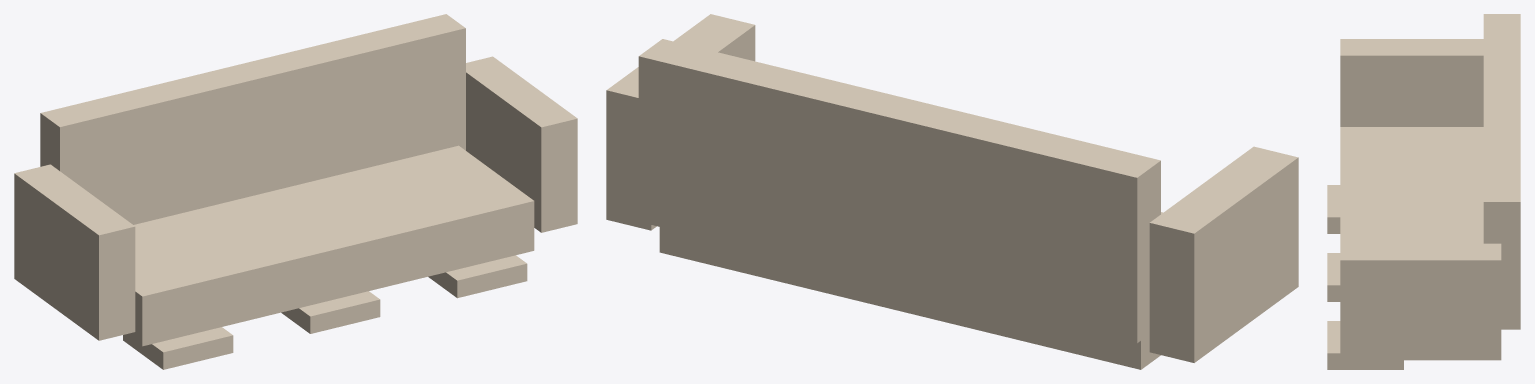
Rendered from sofa.glb.
3 views of the same model, side by side, from view 1: azimuth 30°, elevation 25°; view 2: azimuth 150°, elevation 25°; view 3: azimuth 270°, elevation 25° (orthographic). The views are drawn at different scales.
Visible parts, largest first — view 1: RealityGenius Sofa; view 2: RealityGenius Sofa; view 3: RealityGenius Sofa.
Boxes of the visible parts, <box> form: RealityGenius Sofa: <box>14,14,577,369</box>; RealityGenius Sofa: <box>606,14,1298,369</box>; RealityGenius Sofa: <box>1327,14,1520,369</box>.
Size of the model in its own units: 3.42 by 1.28 by 1.26.
